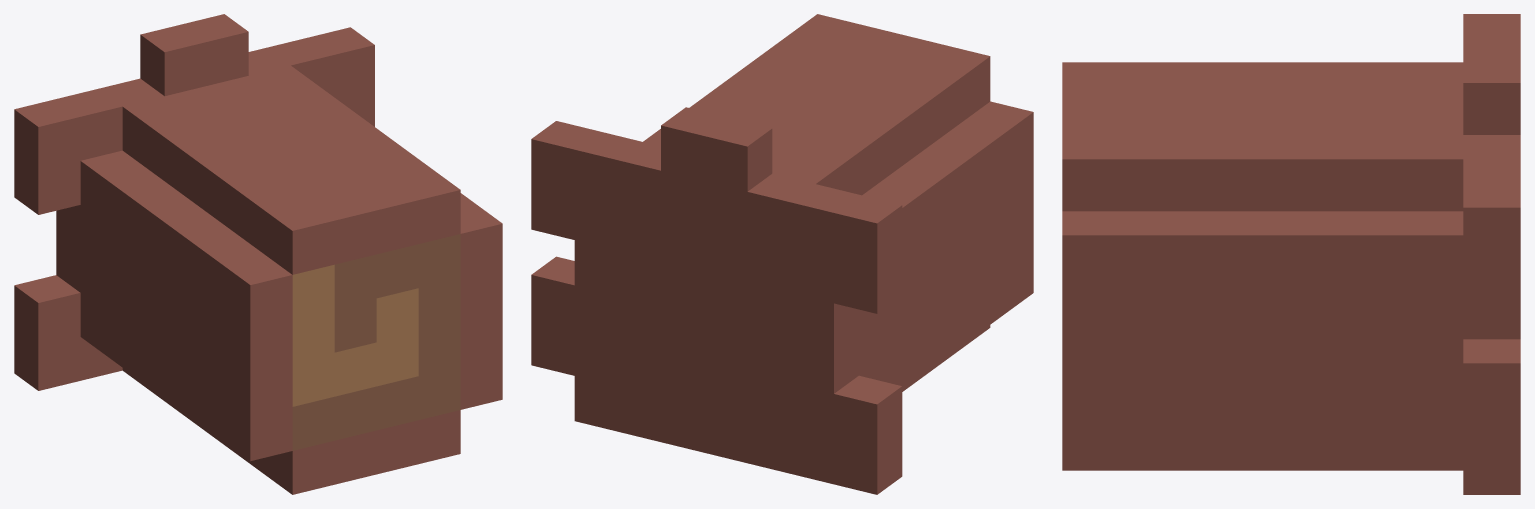
Rendered from tronco deitado.obj.
3 views of the same model, side by side, from view 1: azimuth 30°, elevation 25°; view 2: azimuth 150°, elevation 25°; view 3: azimuth 270°, elevation 25° (orthographic). The views are drawn at different scales.
Size of the model in its own units: 0.8 by 0.7 by 0.8.
Materials: 1 (1 with a texture image).
